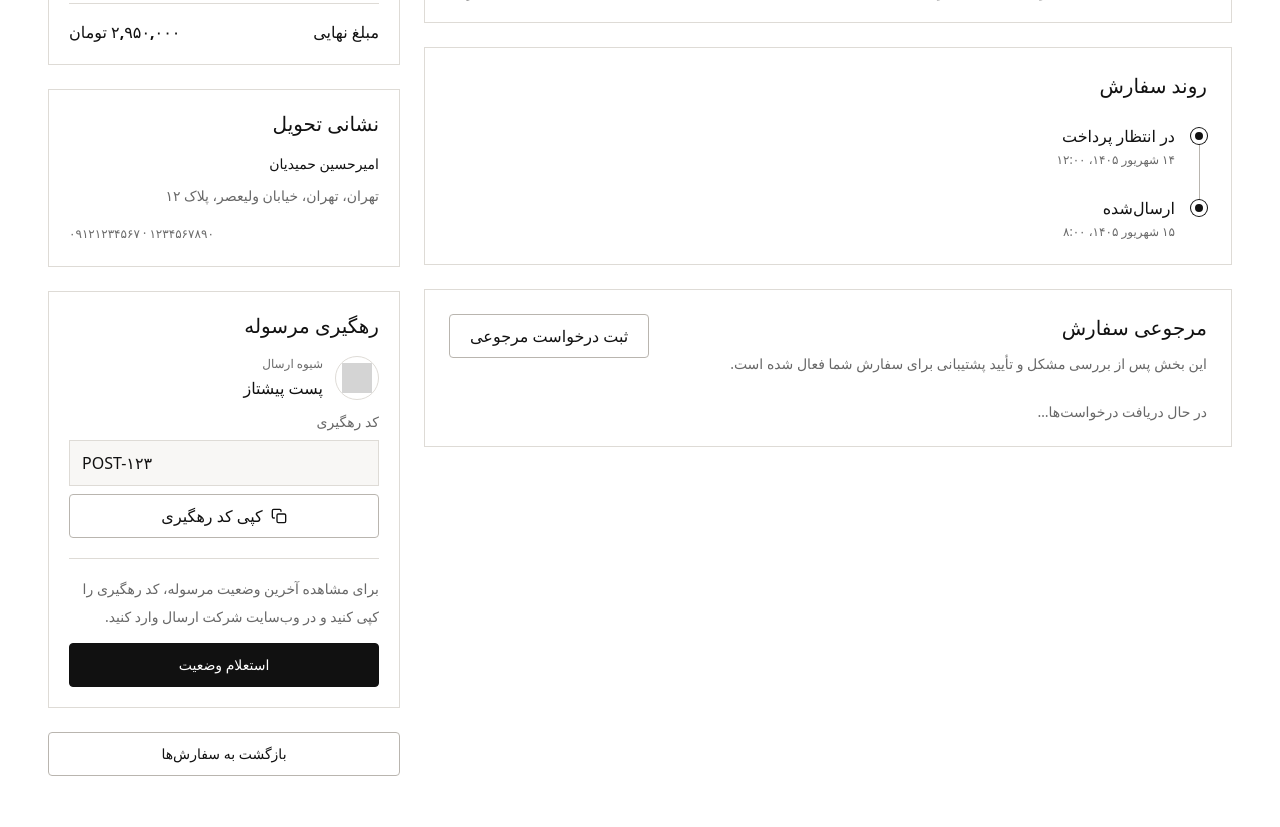
Test case: CustomerOrderDetailView › renders the customer order items, timeline, address, totals, and tracking code
(page scrolled)
Check: the element "روند سفارش" is shown, box x1=424 y1=47 x2=1232 y2=265
Check: the text "در انتظار پرداخت" is shown, box x1=1062 y1=125 x2=1175 y2=147
Click the button "کپی کد رهگیری" at (224, 516), box x1=69 y1=494 x2=379 y2=538
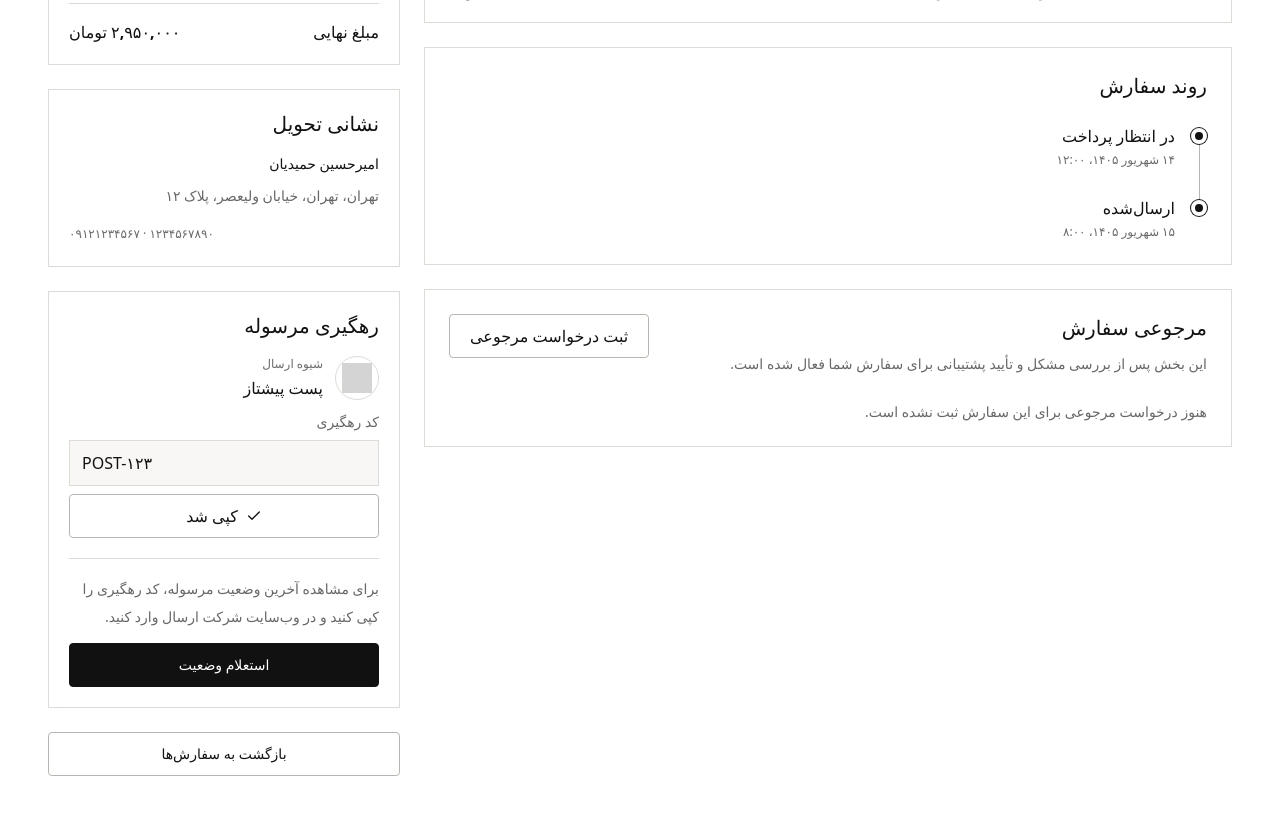
Check: the text "برای مشاهده آخرین وضعیت مرسوله، کد رهگیری را کپی کنید" is shown, box x1=83 y1=579 x2=379 y2=626
Check: the button "کپی شد" is shown, box x1=69 y1=494 x2=379 y2=538
